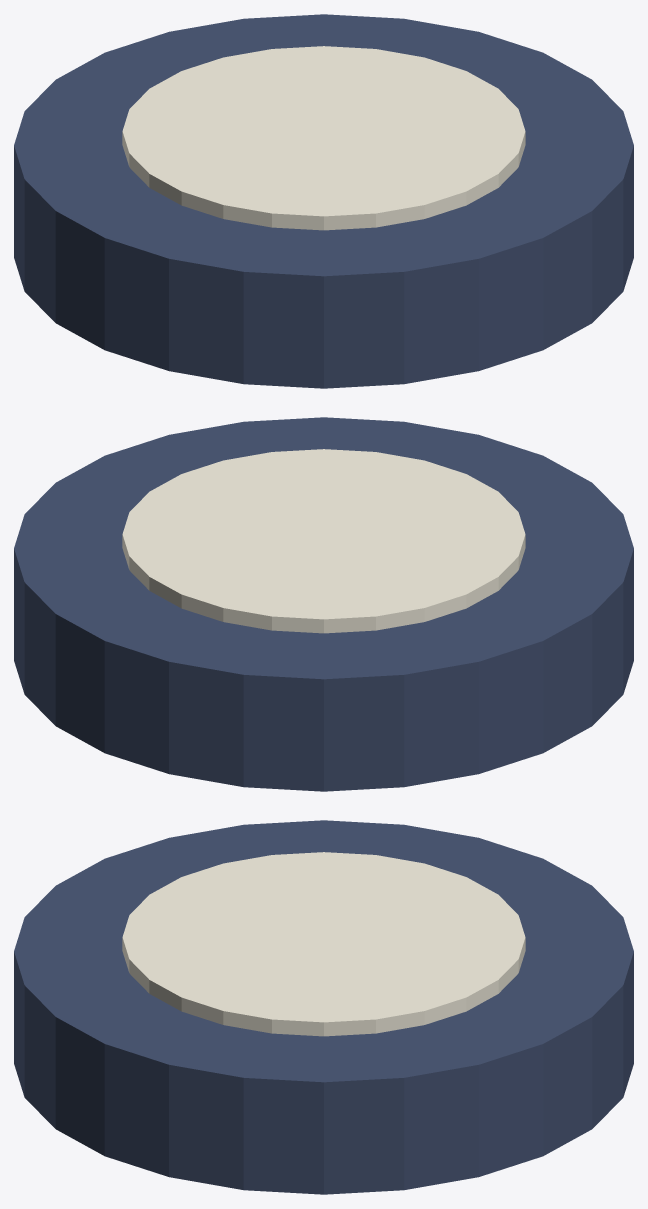
Rendered from Item_OR_Chip_37.glb.
3 renders of one model, top to bottom at view 1: azimuth 30°, elevation 25°; view 2: azimuth 150°, elevation 25°; view 3: azimuth 270°, elevation 25°, orthographic.
Parts seen in each view (by area): view 1: Item_OR_Chip_37; view 2: Item_OR_Chip_37; view 3: Item_OR_Chip_37.
Part boxes in pixels (x1=…): Item_OR_Chip_37: x1=14, y1=14, x2=633, y2=388; Item_OR_Chip_37: x1=14, y1=417, x2=633, y2=791; Item_OR_Chip_37: x1=14, y1=820, x2=633, y2=1194.
Size of the model in its own units: 0.04 by 0.009 by 0.04.
